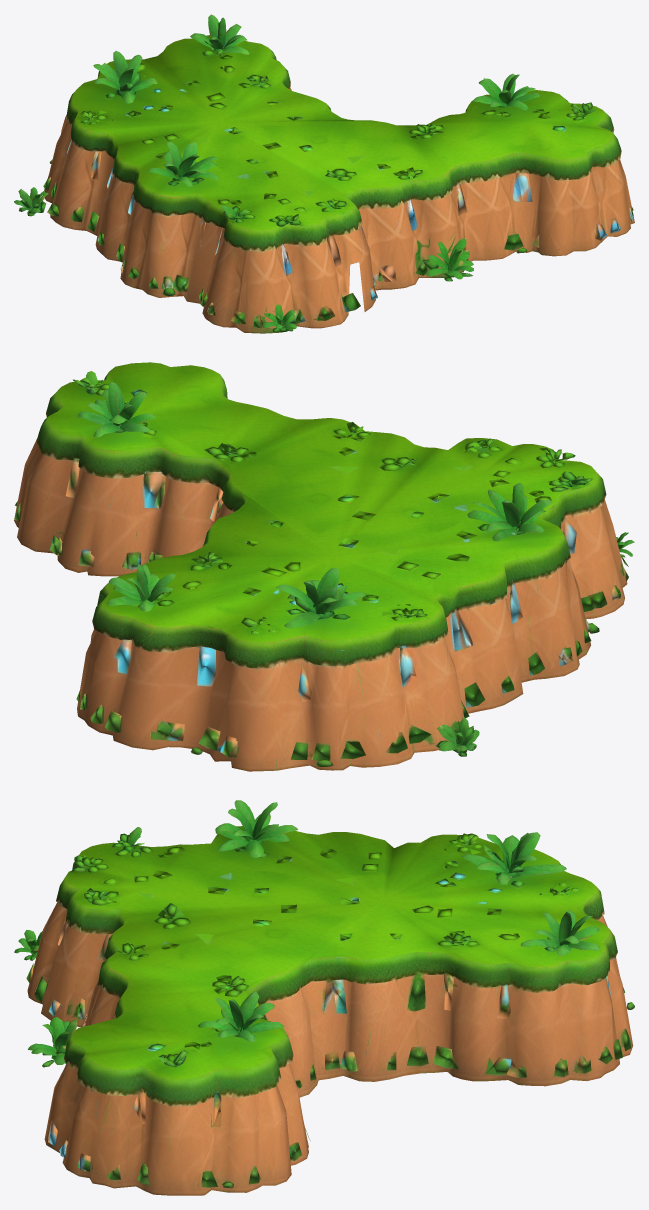
The model's file is s2_r1c2_lobed_shore_terrain.glb.
3 views of the same model, one above another, from view 1: azimuth 30°, elevation 25°; view 2: azimuth 150°, elevation 25°; view 3: azimuth 270°, elevation 25° (orthographic). The views are drawn at different scales.
Size of the model in its own units: 1 by 0.2603 by 0.9368.
1 material, 1 textured.
